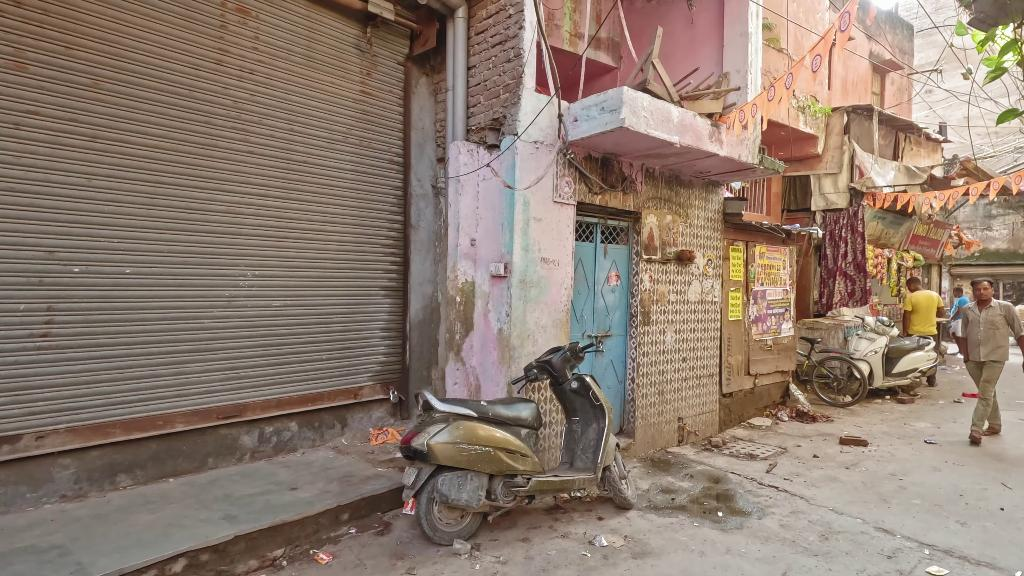garbage: (787, 382, 813, 413), (369, 426, 404, 446), (589, 535, 627, 548), (453, 538, 472, 560), (314, 550, 334, 566), (402, 497, 416, 515)
